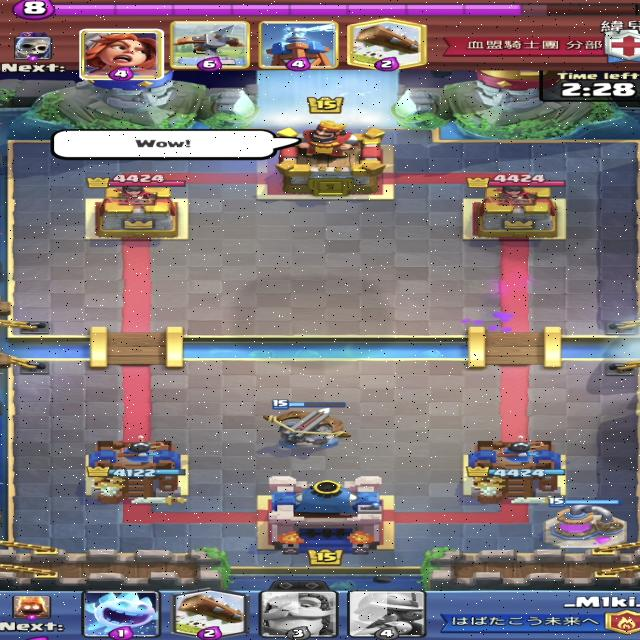Player-ElixirPump: (542, 496, 630, 550)
Player-XBow: (262, 399, 354, 448)
